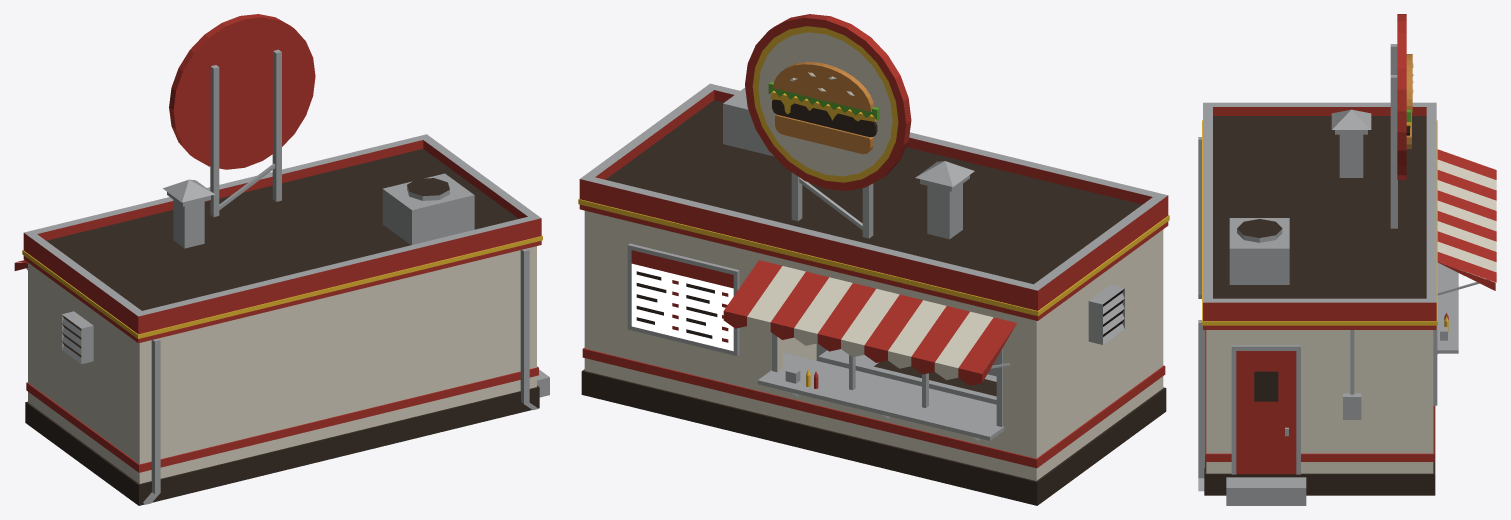
The model's file is burger-joint.glb.
3 views of the same model, side by side, from view 1: azimuth 30°, elevation 25°; view 2: azimuth 150°, elevation 25°; view 3: azimuth 270°, elevation 25° (orthographic). The views are drawn at different scales.
Parts seen in each view (by area): view 1: BurgerJoint; view 2: BurgerJoint; view 3: BurgerJoint.
Part boxes in pixels (x1=…): BurgerJoint: x1=14, y1=14, x2=549, y2=505; BurgerJoint: x1=578, y1=14, x2=1169, y2=505; BurgerJoint: x1=1198, y1=14, x2=1496, y2=505.
Size of the model in its own units: 7.62 by 6.2 by 4.47.
